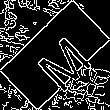M_NW: (21, 21, 89, 89)
